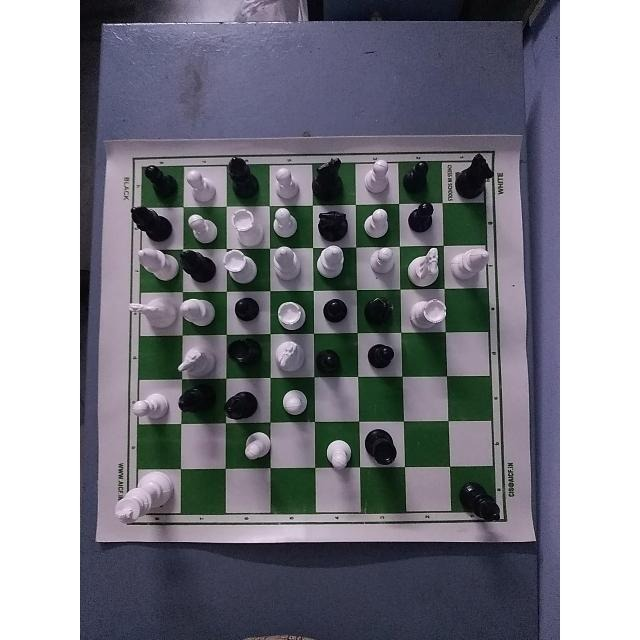black-bishop: (175, 374, 225, 426), (457, 475, 507, 527), (123, 200, 179, 243), (223, 152, 262, 201), (175, 244, 213, 281), (364, 295, 404, 330), (223, 387, 264, 421)
black-knight: (450, 146, 497, 202), (312, 202, 359, 242), (310, 155, 346, 198)
black-pawn: (223, 294, 275, 330), (138, 161, 180, 203), (307, 342, 348, 380), (360, 336, 403, 372), (400, 157, 433, 200), (322, 296, 358, 333), (406, 201, 438, 237)
black-rook: (361, 427, 407, 468), (223, 334, 268, 369)
white-bishop: (131, 247, 183, 286), (317, 245, 359, 289), (453, 244, 497, 286), (179, 295, 223, 331), (268, 245, 304, 289)
white-king: (115, 468, 177, 529)
white-knight: (127, 292, 175, 332), (175, 338, 219, 381), (271, 335, 313, 375), (404, 246, 446, 286)
white-pawn: (128, 389, 174, 429), (235, 426, 274, 469), (269, 205, 308, 240), (321, 438, 360, 472), (270, 165, 306, 200), (184, 169, 220, 204), (184, 209, 222, 240), (362, 204, 398, 236), (278, 386, 315, 417), (367, 244, 399, 279), (365, 156, 391, 196)
white-rook: (227, 204, 271, 245), (218, 251, 260, 287), (412, 295, 451, 331), (276, 295, 310, 335)
